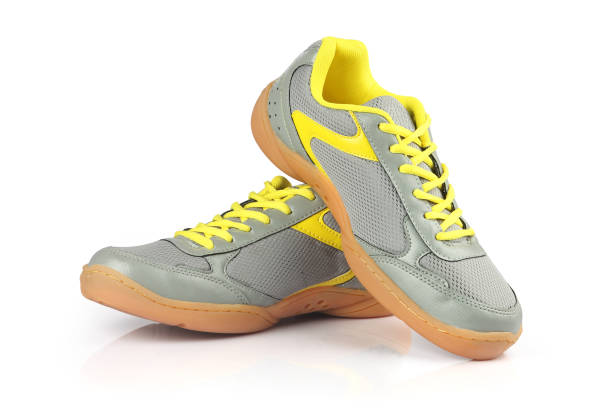Footwear: (83, 35, 530, 364), (247, 34, 522, 361)
